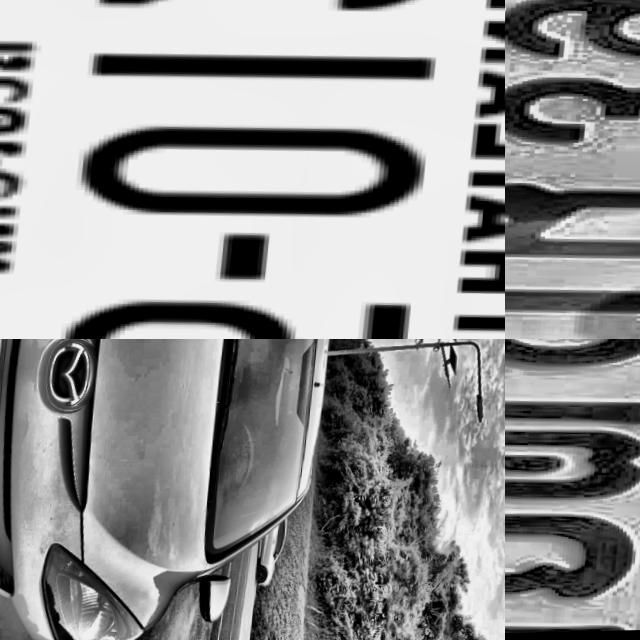license-plate: (0, 0, 505, 339), (505, 0, 640, 339), (505, 339, 640, 640), (0, 339, 17, 462)
